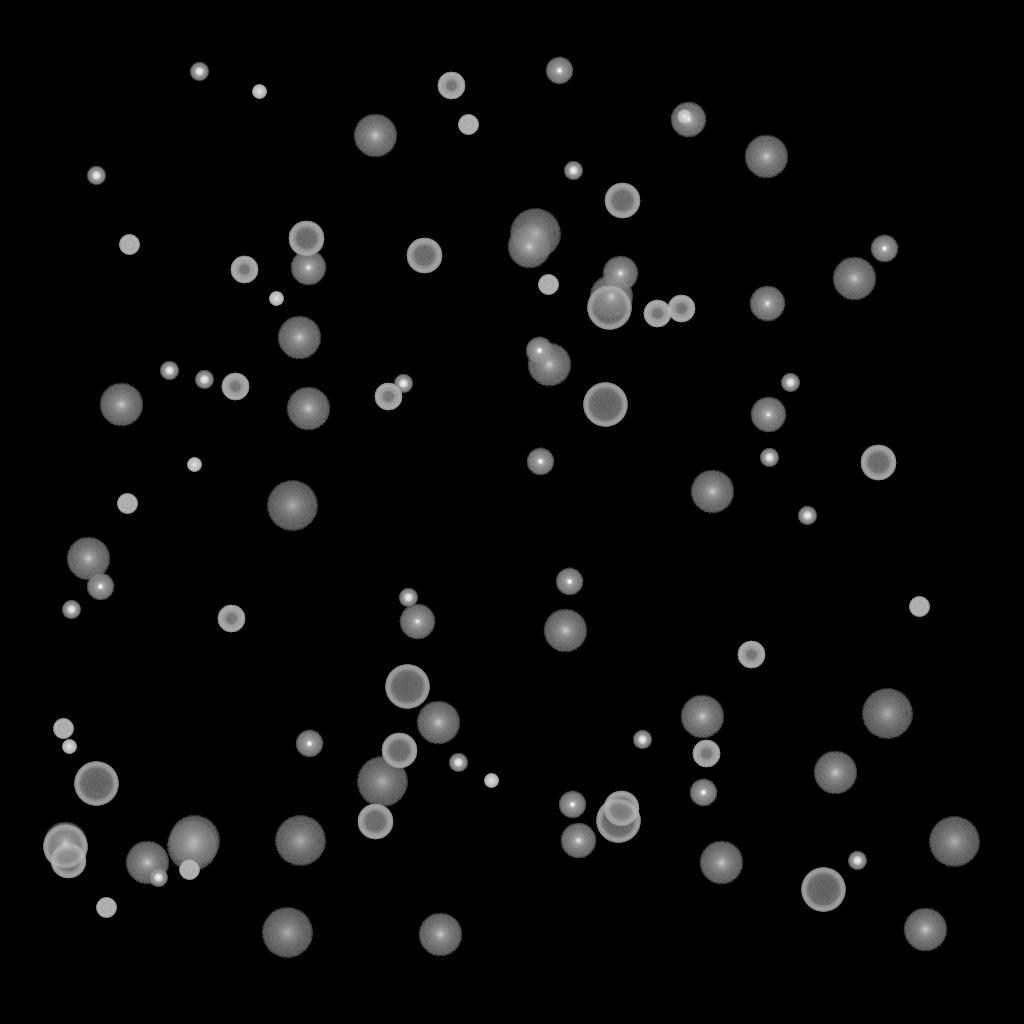depth:-10: (295, 730, 323, 758), (558, 791, 586, 819), (555, 568, 583, 596), (545, 57, 573, 85), (86, 573, 114, 601), (689, 779, 717, 807), (870, 235, 898, 263), (526, 448, 554, 476), (525, 337, 553, 365)
depth:-20: (760, 449, 778, 467), (449, 754, 467, 772), (195, 371, 213, 389), (848, 852, 866, 870), (87, 167, 105, 185), (62, 601, 80, 619), (149, 869, 167, 887), (160, 362, 178, 380), (633, 731, 651, 749), (798, 507, 816, 525), (190, 63, 208, 81), (399, 589, 417, 607), (781, 374, 799, 392), (564, 162, 582, 180), (394, 375, 412, 393)
depth:-30: (187, 458, 201, 472), (62, 740, 76, 754), (484, 774, 498, 788), (269, 292, 283, 306), (677, 110, 691, 124), (252, 85, 266, 99)
depth:-40: (96, 898, 116, 918), (909, 597, 929, 617), (53, 719, 73, 739), (538, 275, 558, 295), (179, 860, 199, 880), (458, 115, 478, 135), (117, 494, 137, 514), (119, 235, 139, 255)
depth:-50: (692, 740, 720, 768), (374, 383, 402, 411), (221, 373, 249, 401), (643, 300, 671, 328), (667, 295, 695, 323), (217, 605, 245, 633), (437, 72, 465, 100), (230, 256, 258, 284), (737, 641, 765, 669)
depth:-60: (357, 804, 393, 840), (406, 238, 442, 274), (860, 445, 896, 481), (604, 183, 640, 219), (50, 843, 86, 879), (603, 791, 639, 827), (288, 221, 324, 257), (381, 733, 417, 769)
depth:-70: (385, 665, 429, 709), (801, 868, 845, 912), (74, 762, 118, 806), (596, 799, 640, 843), (583, 383, 627, 427), (587, 286, 631, 330), (43, 825, 87, 869)
depth:0: (560, 823, 596, 859), (670, 102, 706, 138), (749, 286, 785, 322), (750, 397, 786, 433), (290, 250, 326, 286), (602, 256, 638, 292), (399, 604, 435, 640)
depth:10: (286, 387, 330, 431), (813, 751, 857, 795), (418, 913, 462, 957), (125, 841, 169, 885), (832, 257, 876, 301), (744, 135, 788, 179), (66, 537, 110, 581), (699, 841, 743, 885), (99, 383, 143, 427), (277, 316, 321, 360), (589, 275, 633, 319), (543, 609, 587, 653), (690, 470, 734, 514), (527, 343, 571, 387), (903, 908, 947, 952), (43, 822, 87, 866), (680, 695, 724, 739), (507, 225, 551, 269), (353, 114, 397, 158), (416, 701, 460, 745)
depth:20: (274, 816, 326, 866), (356, 757, 408, 807), (509, 209, 561, 259), (166, 821, 218, 871), (168, 816, 220, 866), (266, 481, 318, 531), (861, 689, 913, 739), (928, 817, 980, 867), (261, 908, 313, 958)
